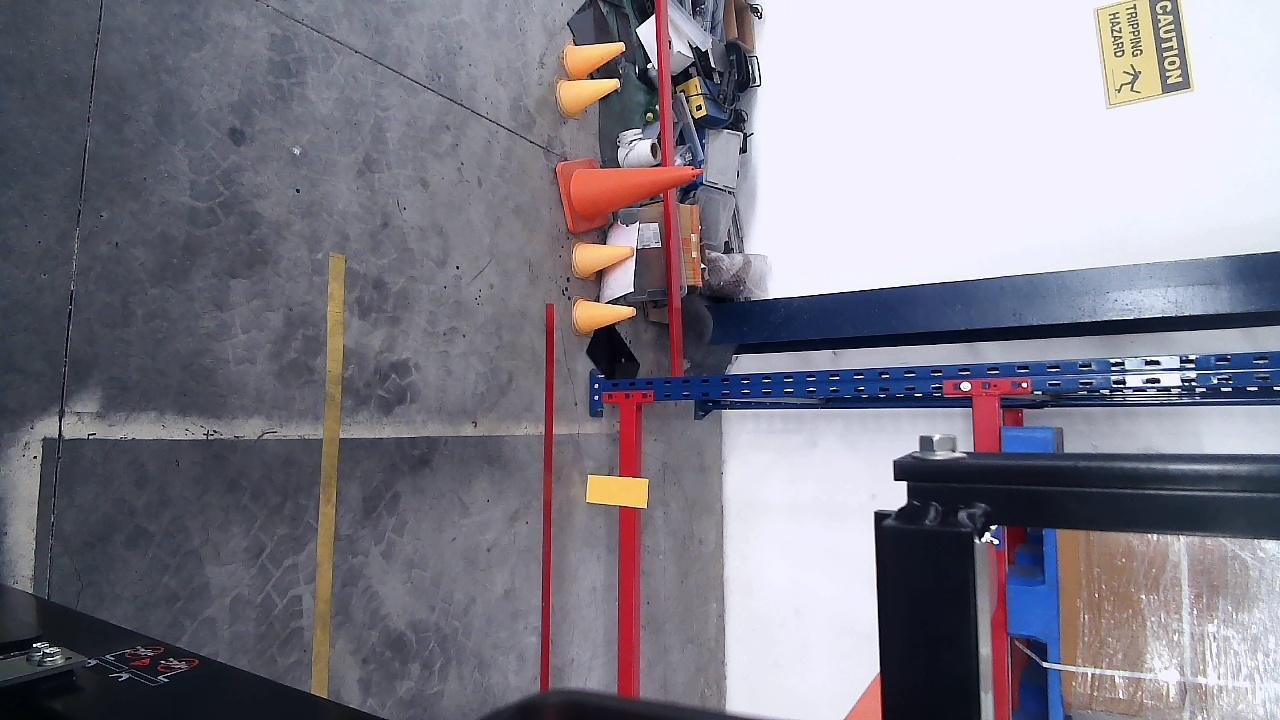h_rack: (972, 391, 1019, 720), (618, 402, 639, 695)
orange_strip: (587, 476, 647, 508)
red_line: (541, 301, 553, 690)
small_pallet: (999, 426, 1069, 720)
yellow_line: (311, 252, 345, 697)
